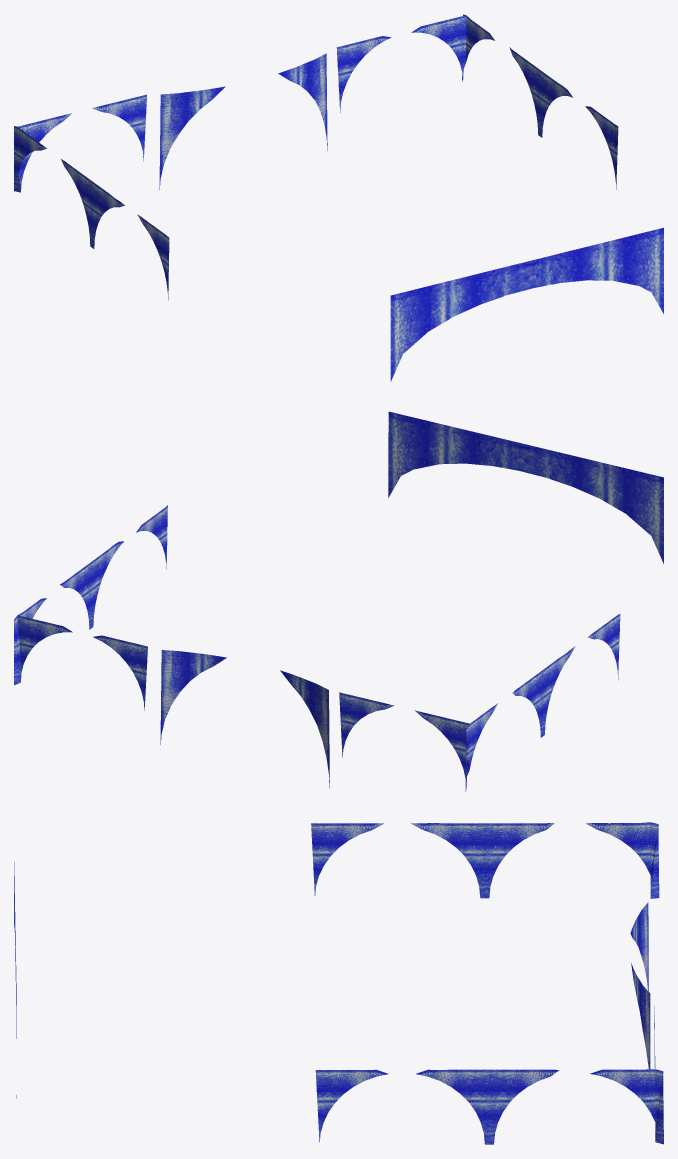
3 views of the same model, one above another, from view 1: azimuth 30°, elevation 25°; view 2: azimuth 150°, elevation 25°; view 3: azimuth 270°, elevation 25° (orthographic). The views are drawn at different scales.
Bounding box in the file's own units: 0.8016 × 0.2017 × 0.8902.
Materials: 1 (1 with a texture image).
